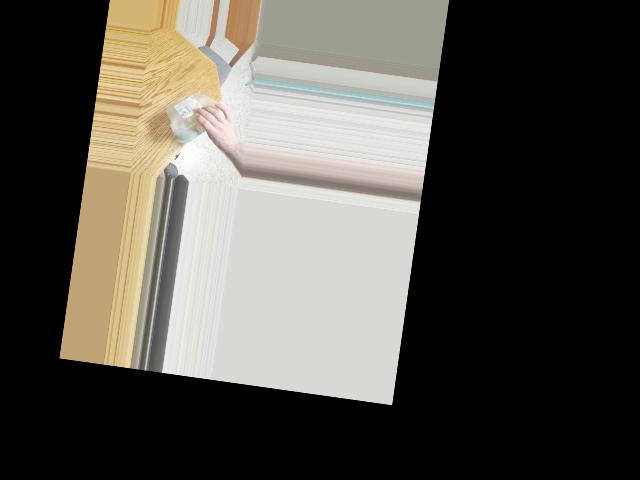cheese: (161, 85, 233, 146)
